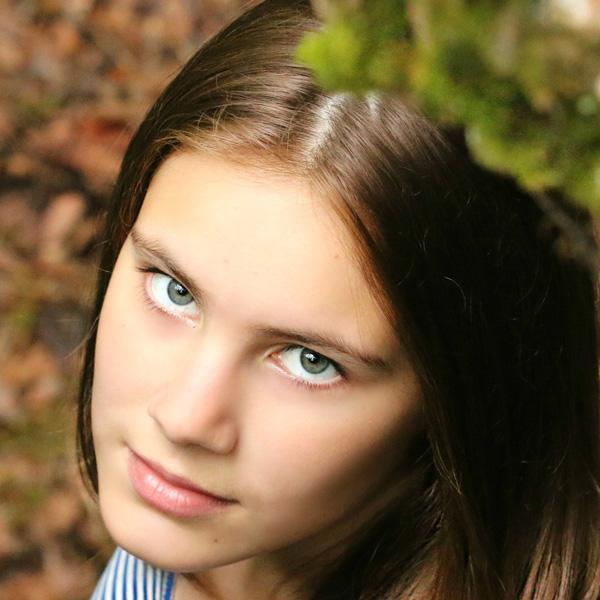Eyes: (253, 331, 355, 398), (132, 251, 206, 338)
